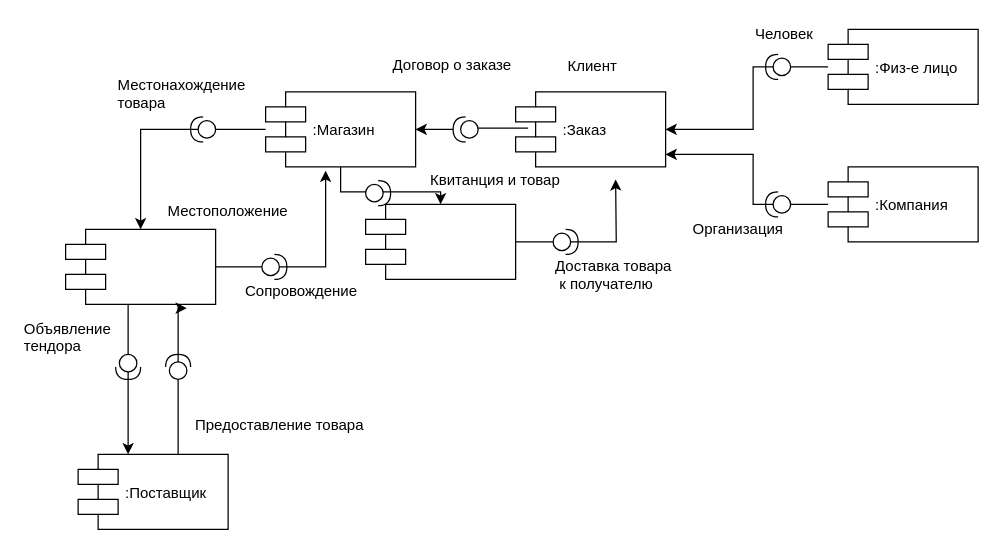
The diagram is 1000 pixels wide and 551 high, and some of its shapes have lost their labels. The shapes that lost their labels are listed below. From the top down, each one's centre as x and y in pixels, then its label:
point (440, 241): :Курьер
point (140, 266): :Склад
